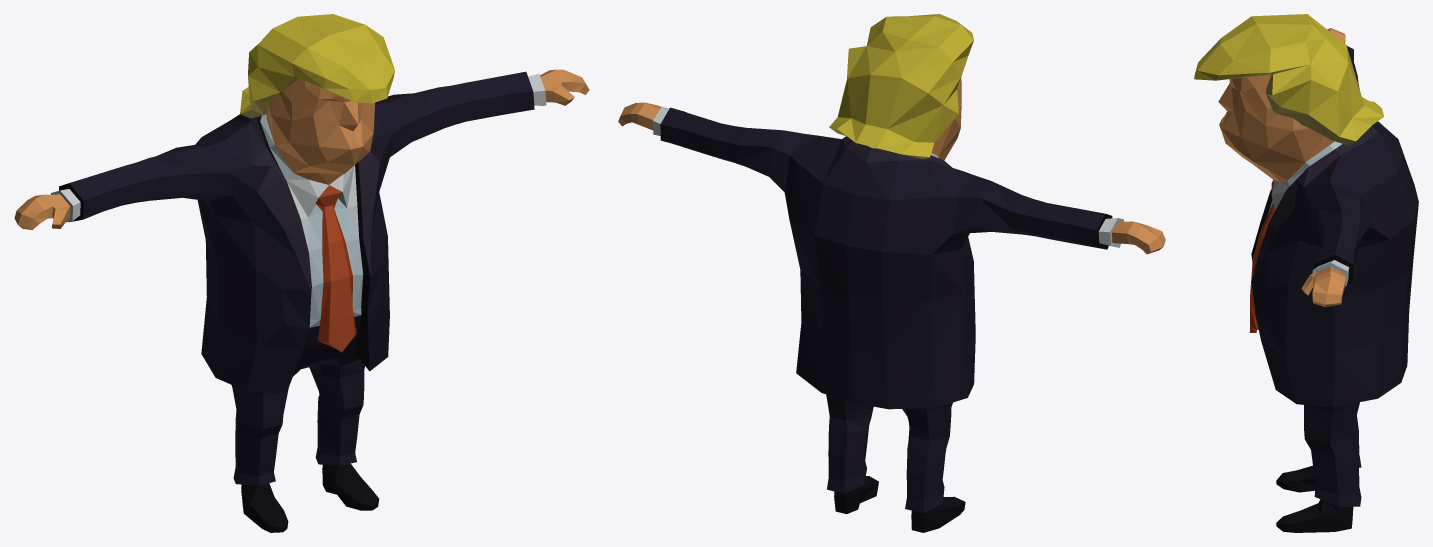
Rendered from tramp.gltf.
The picture shows the model from 3 angles, left to right: view 1: azimuth 30°, elevation 25°; view 2: azimuth 150°, elevation 25°; view 3: azimuth 270°, elevation 25°; orthographic projection. The views are drawn at different scales.
Parts seen in each view (by area): view 1: trump_lp_model; view 2: trump_lp_model; view 3: trump_lp_model.
Part boxes in pixels (bbox=[...]): trump_lp_model: bbox=[14, 14, 589, 532]; trump_lp_model: bbox=[618, 14, 1165, 532]; trump_lp_model: bbox=[1194, 14, 1418, 532].
Bounding box in the file's own units: 2.24 × 1.86 × 0.7928.
Materials: 1 (1 with a texture image).
